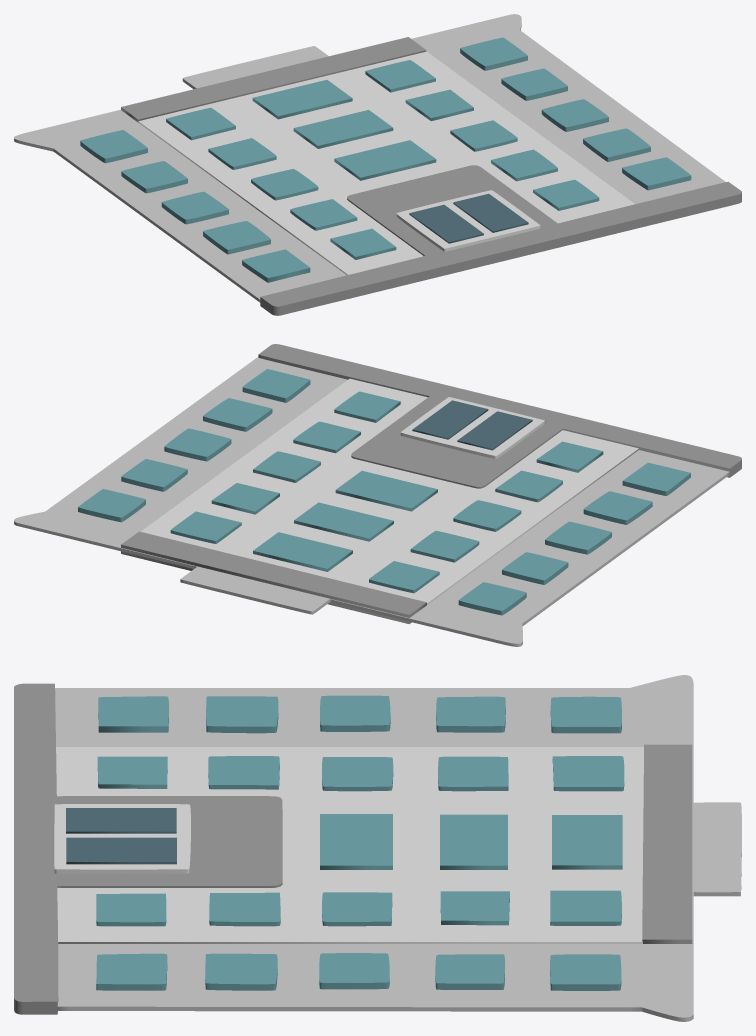
Rendered from emoji_u1f3e2.glb.
3 views of the same model, one above another, from view 1: azimuth 30°, elevation 25°; view 2: azimuth 150°, elevation 25°; view 3: azimuth 270°, elevation 25° (orthographic). The views are drawn at different scales.
Visible parts, largest first — view 1: emoji_u1f3e2; view 2: emoji_u1f3e2; view 3: emoji_u1f3e2.
Boxes of the visible parts, x1,y1,x2,y2 form: emoji_u1f3e2: (14,14,741,315); emoji_u1f3e2: (14,344,741,646); emoji_u1f3e2: (14,675,741,1021).
Size of the model in its own units: 0.0343 by 0.0012 by 0.0308.
